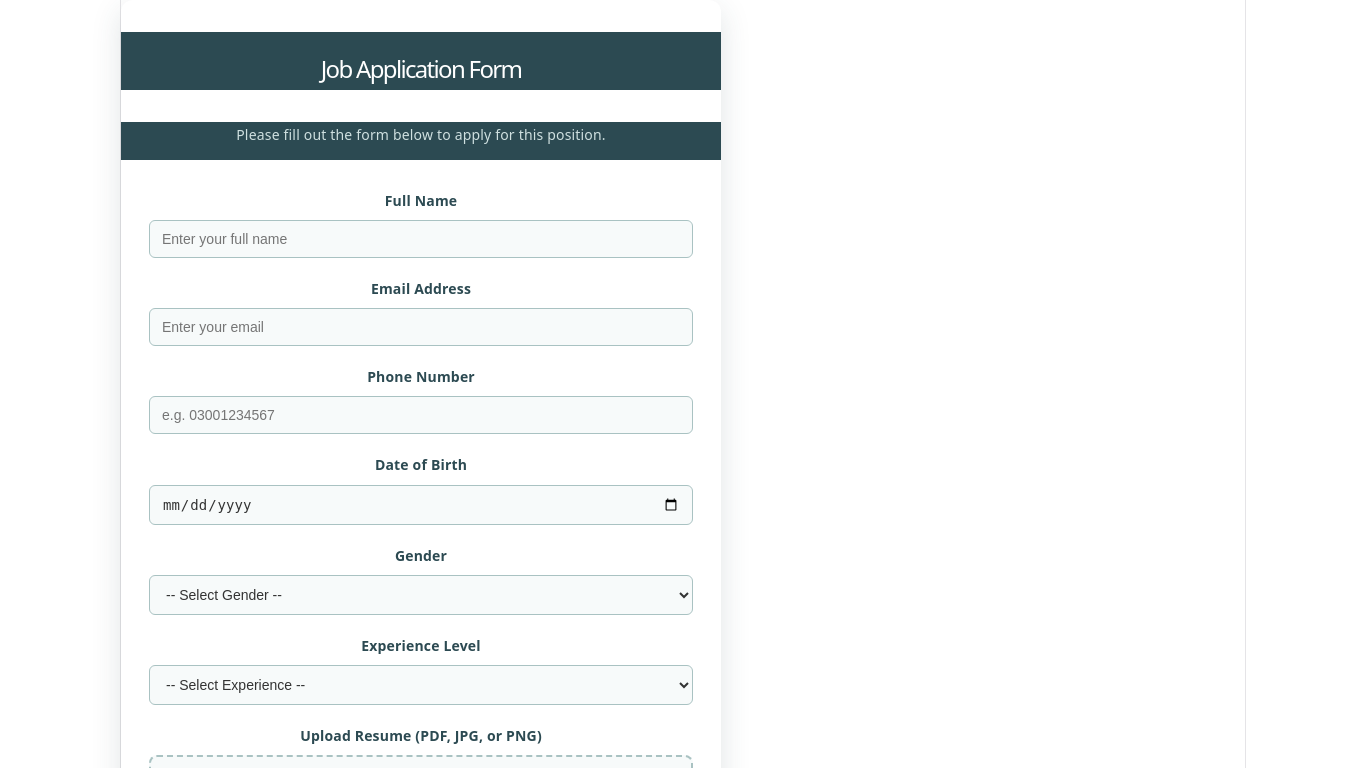
Scenario: JobApplicationForm › shows a validation error for an invalid email on submit
The width and height of the screenshot is (1366, 768).
In the field labelled "Full Name": (421, 239) [149, 220, 693, 258], type "Arooj Mehmood"
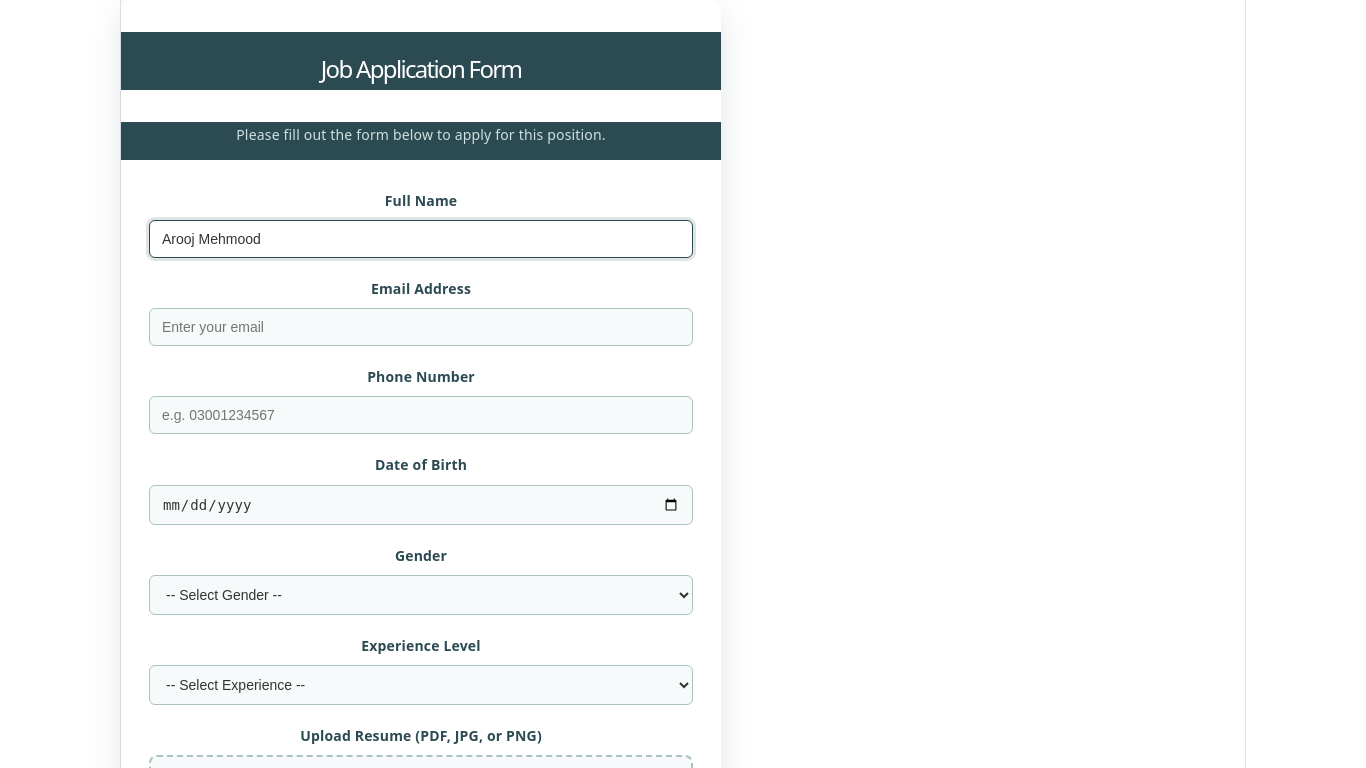
In the field labelled "Email Address": (421, 327) [149, 308, 693, 346], type "not-an-email"
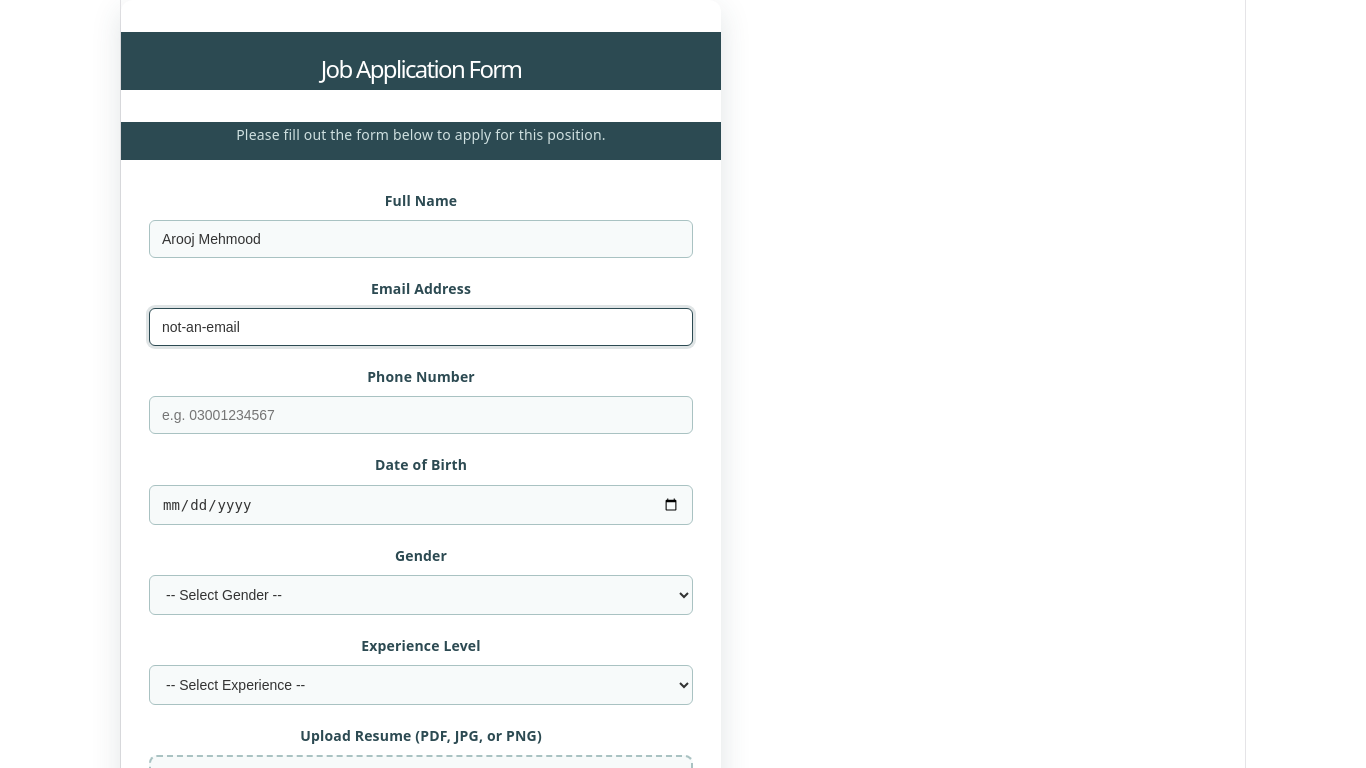
In the field labelled "Phone Number": (421, 416) [149, 396, 693, 434], type "03001234567"
(page scrolled)
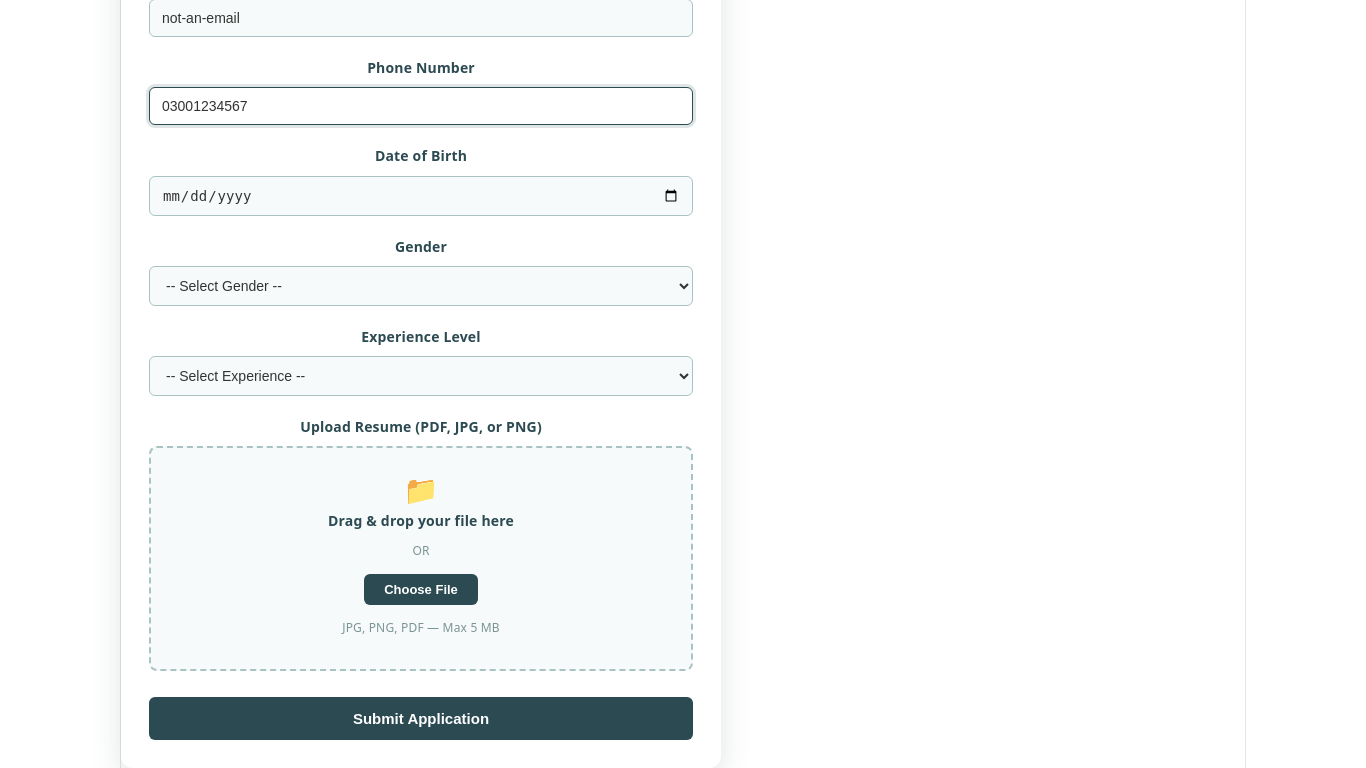
Click the button "Submit Application": (421, 719) [149, 697, 693, 740]
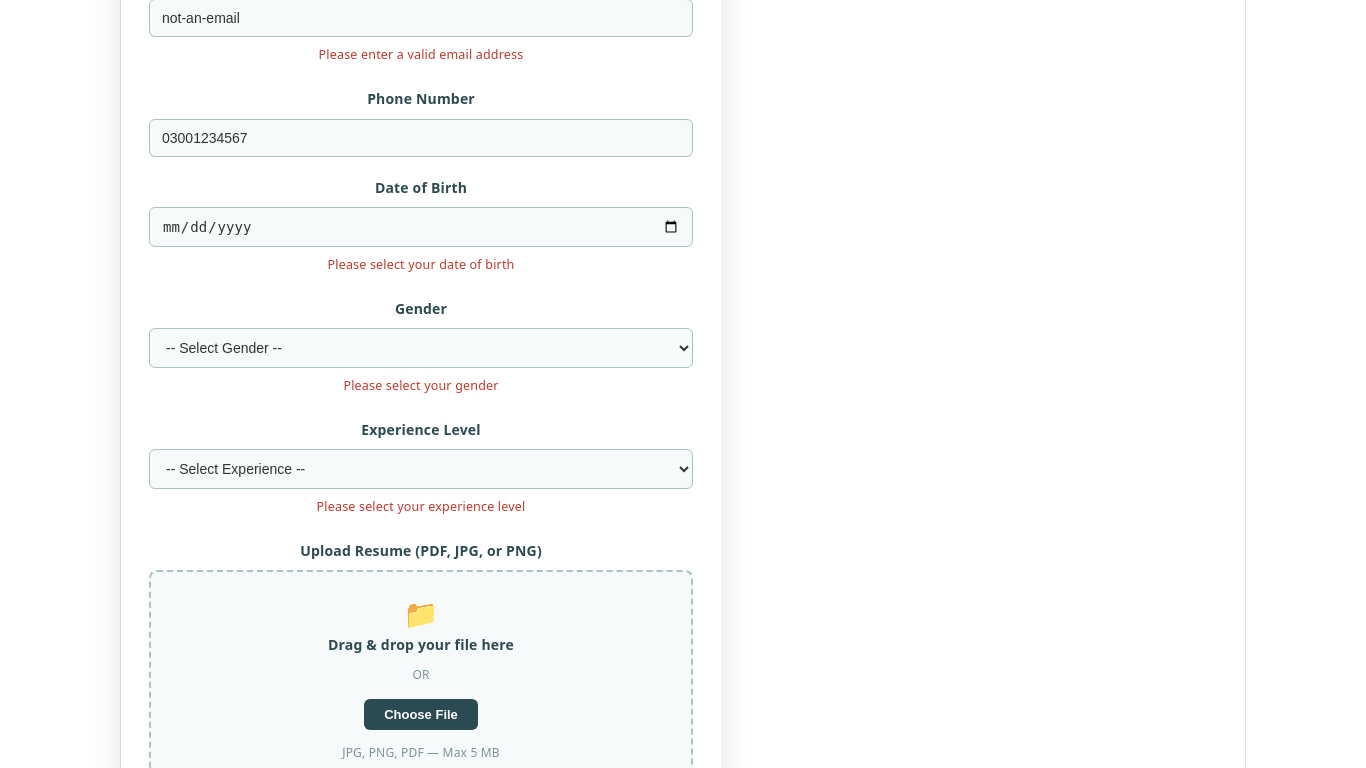
Expected: the text "Please enter a valid email address" is shown, [319, 46, 523, 63]
